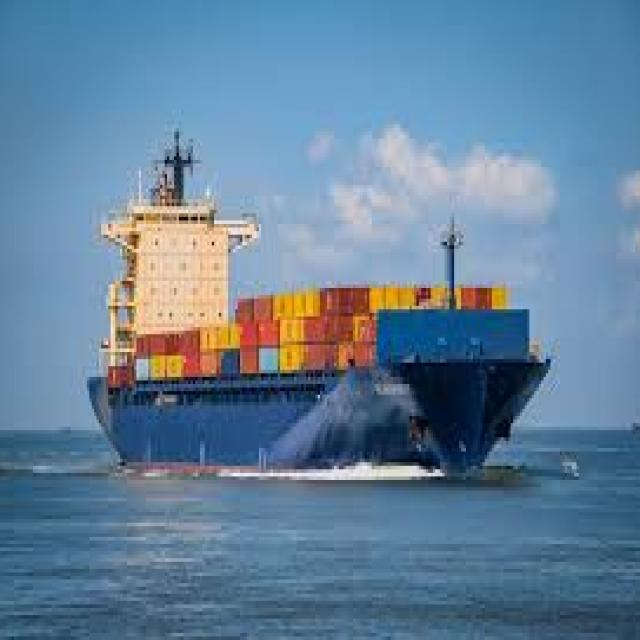cargoship: (92, 128, 550, 482)
